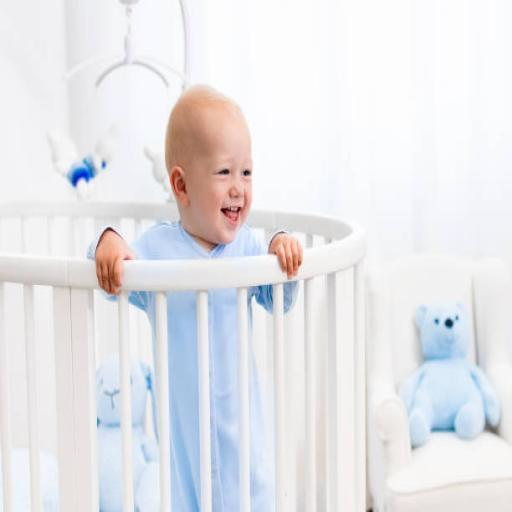baby: (88, 86, 266, 293)
crib: (0, 203, 365, 511)
